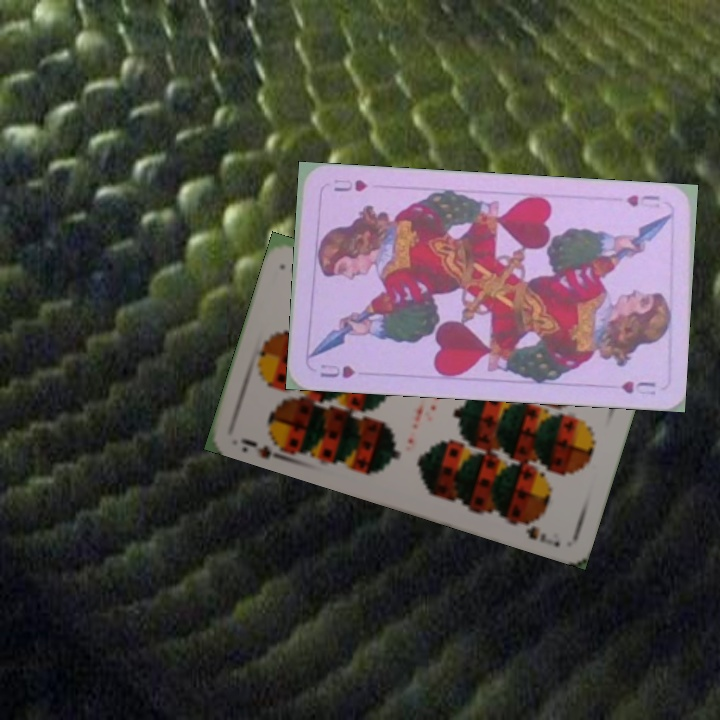HU: (316, 360, 358, 381), (623, 191, 663, 213)
S9: (236, 434, 291, 464)
